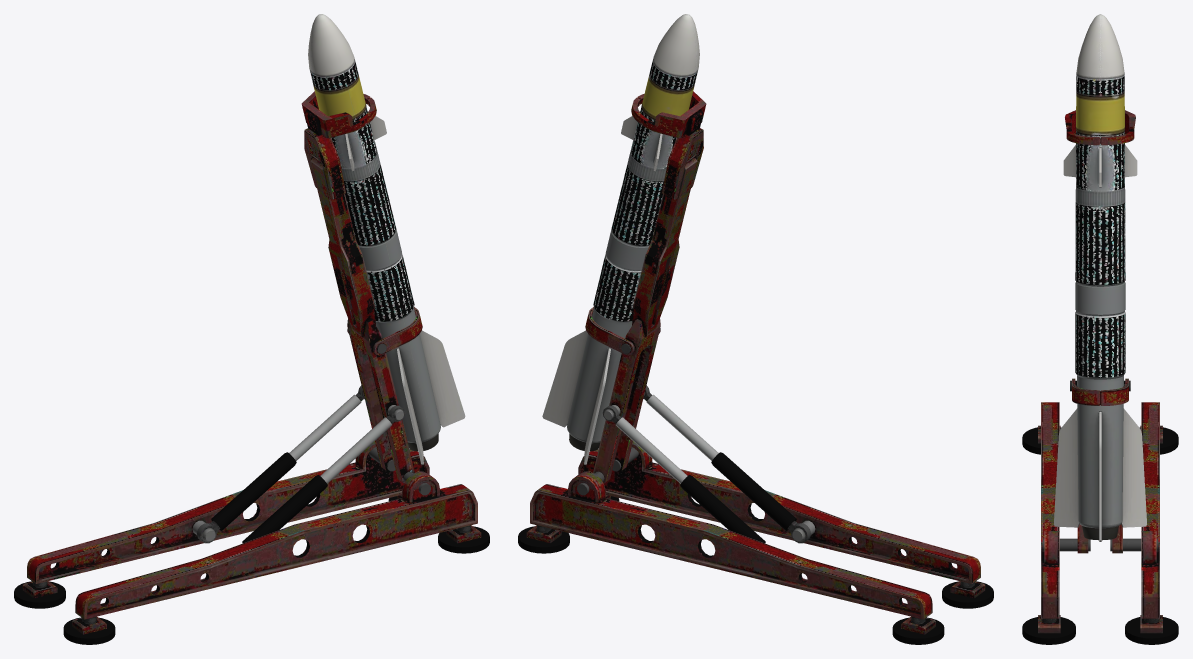
The picture shows the model from 3 angles, left to right: view 1: azimuth 30°, elevation 25°; view 2: azimuth 150°, elevation 25°; view 3: azimuth 270°, elevation 25°; orthographic projection. The views are drawn at different scales.
Parts seen in each view (by area): view 1: body0_model0_lod0_mesh0, body0_model0_lod0_mesh1; view 2: body0_model0_lod0_mesh0, body0_model0_lod0_mesh1; view 3: body0_model0_lod0_mesh1, body0_model0_lod0_mesh0.
Boxes of the visible parts, bbox=[...] form: body0_model0_lod0_mesh0: bbox=[14, 91, 489, 644]; body0_model0_lod0_mesh1: bbox=[308, 14, 465, 464]; body0_model0_lod0_mesh0: bbox=[518, 91, 993, 644]; body0_model0_lod0_mesh1: bbox=[542, 14, 699, 464]; body0_model0_lod0_mesh1: bbox=[1054, 14, 1146, 541]; body0_model0_lod0_mesh0: bbox=[1022, 110, 1178, 644].
Bounding box in the file's own units: 437 × 532 × 135.
2 materials, 2 textured.
